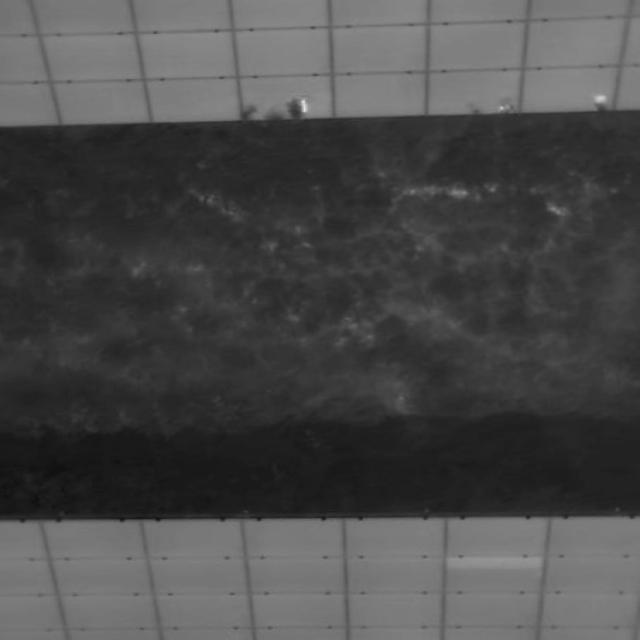Line Fault: (447, 554, 546, 568)
Panel: (0, 512, 640, 640), (1, 1, 640, 118)
